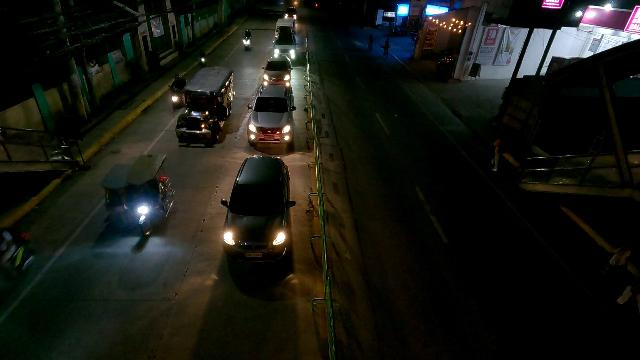car: (220, 156, 296, 262), (246, 84, 294, 148), (271, 32, 299, 65), (262, 56, 292, 85), (284, 7, 297, 20)
jeepney: (173, 65, 235, 143)
motorcycle: (168, 74, 187, 112), (243, 28, 252, 52), (199, 50, 207, 67)
truck: (274, 17, 294, 42)
